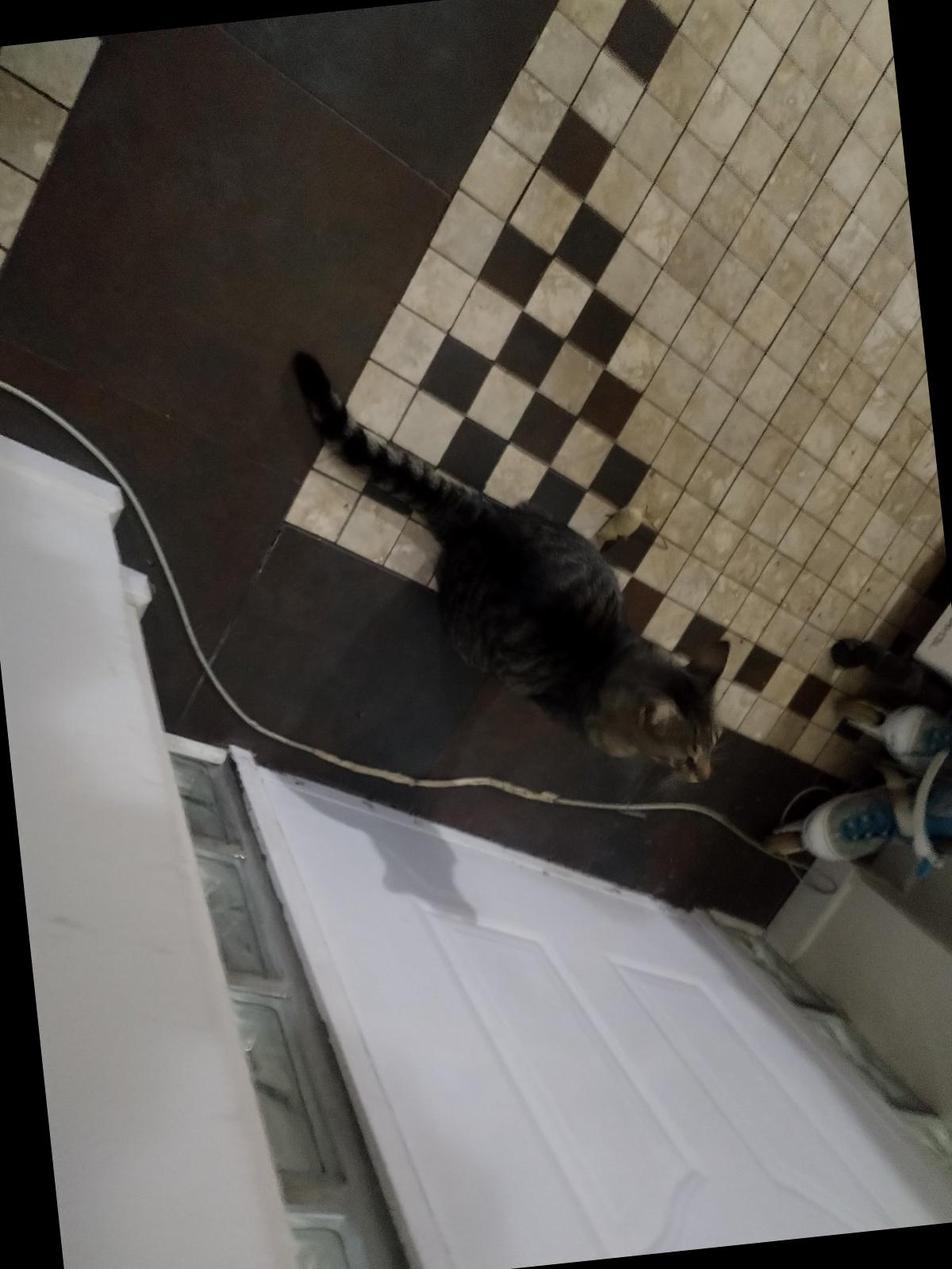macka: (284, 311, 746, 819)
